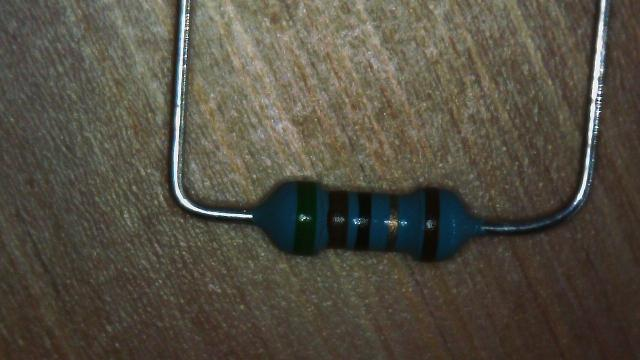black: (355, 192, 372, 250)
brown: (421, 187, 440, 262), (327, 190, 348, 249)
gold: (386, 195, 399, 251)
green: (293, 181, 316, 253)
resistor: (259, 168, 478, 271)
